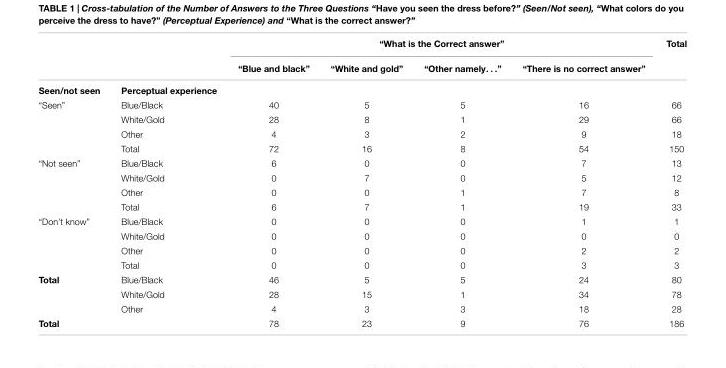table: (37, 37, 686, 328)
table column: (511, 37, 655, 328), (109, 37, 226, 328), (412, 37, 511, 328), (226, 37, 319, 328), (319, 37, 412, 328), (37, 37, 109, 328), (655, 37, 686, 328)
table column header: (37, 37, 686, 78)
table row: (37, 55, 686, 78), (37, 37, 686, 55), (37, 78, 686, 96), (37, 96, 686, 111), (37, 111, 686, 126), (37, 140, 686, 155), (37, 169, 686, 184), (37, 198, 686, 213), (37, 227, 686, 242), (37, 242, 686, 257), (37, 271, 686, 286), (37, 300, 686, 315), (37, 126, 686, 140), (37, 155, 686, 169), (37, 184, 686, 198), (37, 213, 686, 227), (37, 257, 686, 271), (37, 286, 686, 300), (37, 315, 686, 328)
table spanning cell: (226, 37, 655, 55), (37, 96, 109, 155), (37, 155, 109, 213), (37, 213, 109, 271), (37, 271, 109, 315), (655, 37, 686, 78)
